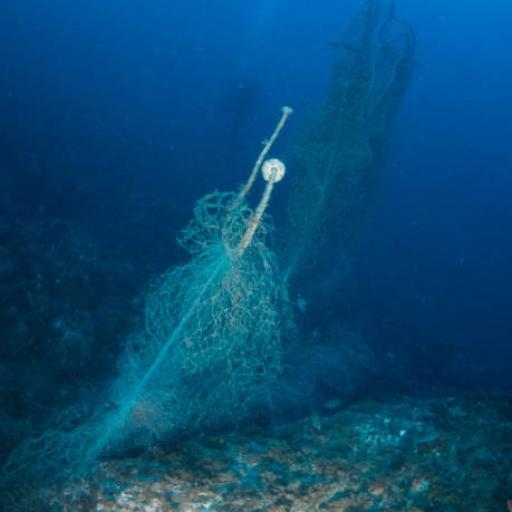net: (3, 182, 287, 456), (290, 8, 419, 252)
